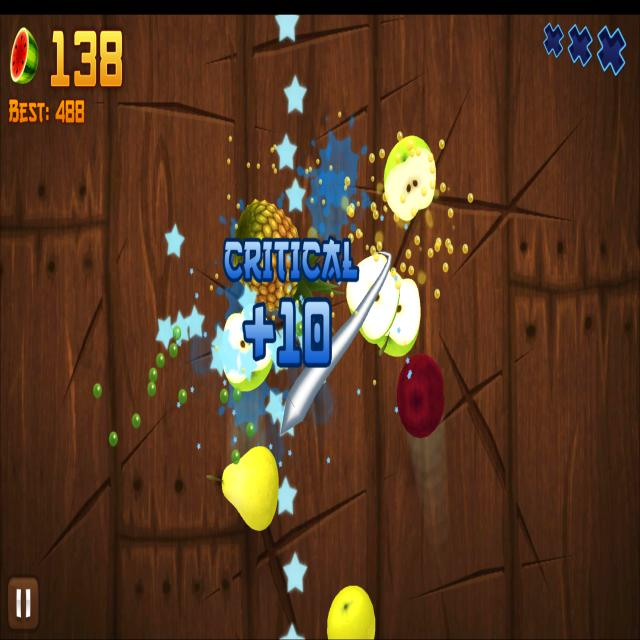fruit: (233, 199, 300, 313), (222, 446, 280, 532), (396, 353, 444, 439), (327, 585, 376, 640)
